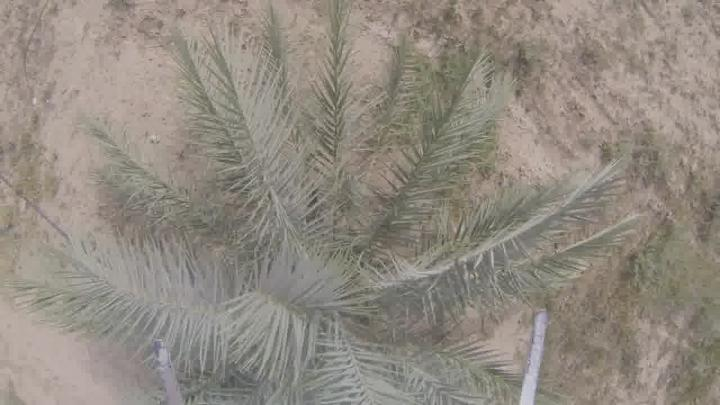Date-Palm-Crown: (183, 169, 449, 405)
